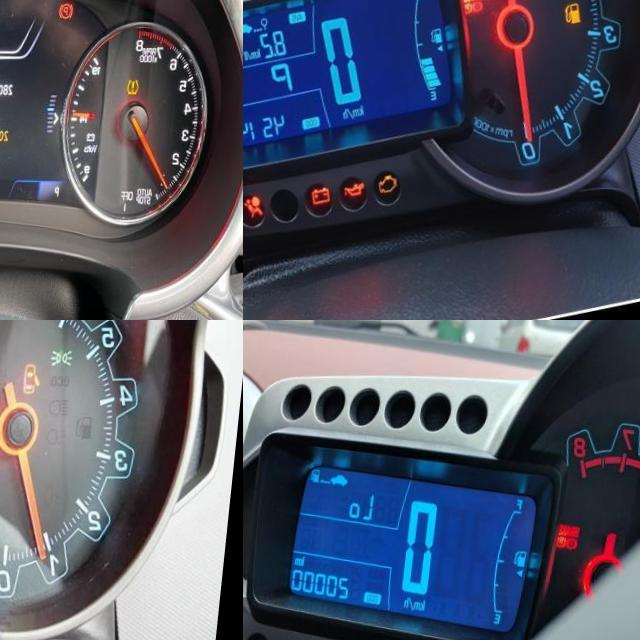Low fuel level: (569, 0, 590, 23)
